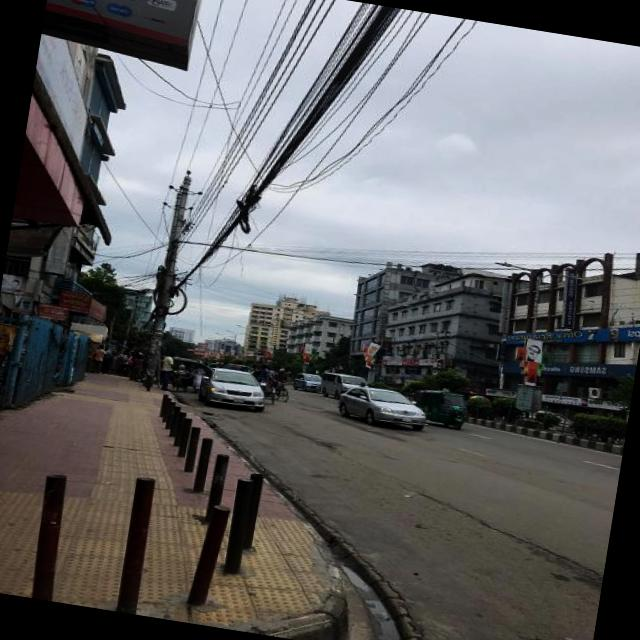car: (334, 379, 434, 437), (193, 360, 277, 416), (294, 370, 326, 394)
motorcycle: (412, 381, 478, 434), (254, 360, 298, 404)
truck: (320, 368, 374, 404)
